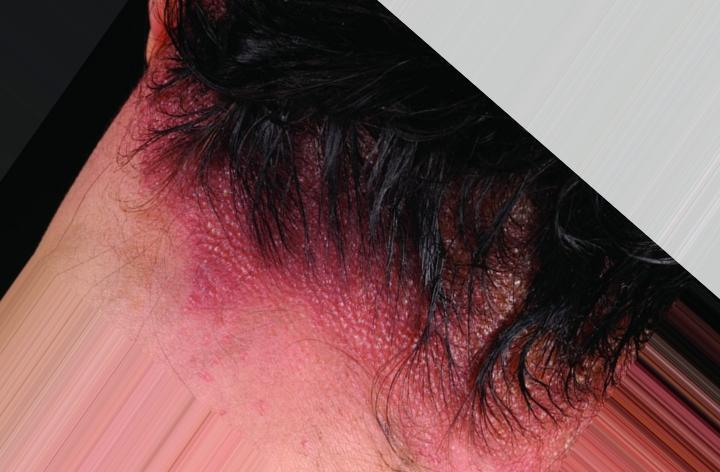Contact Dermatitis: (172, 133, 530, 429)
